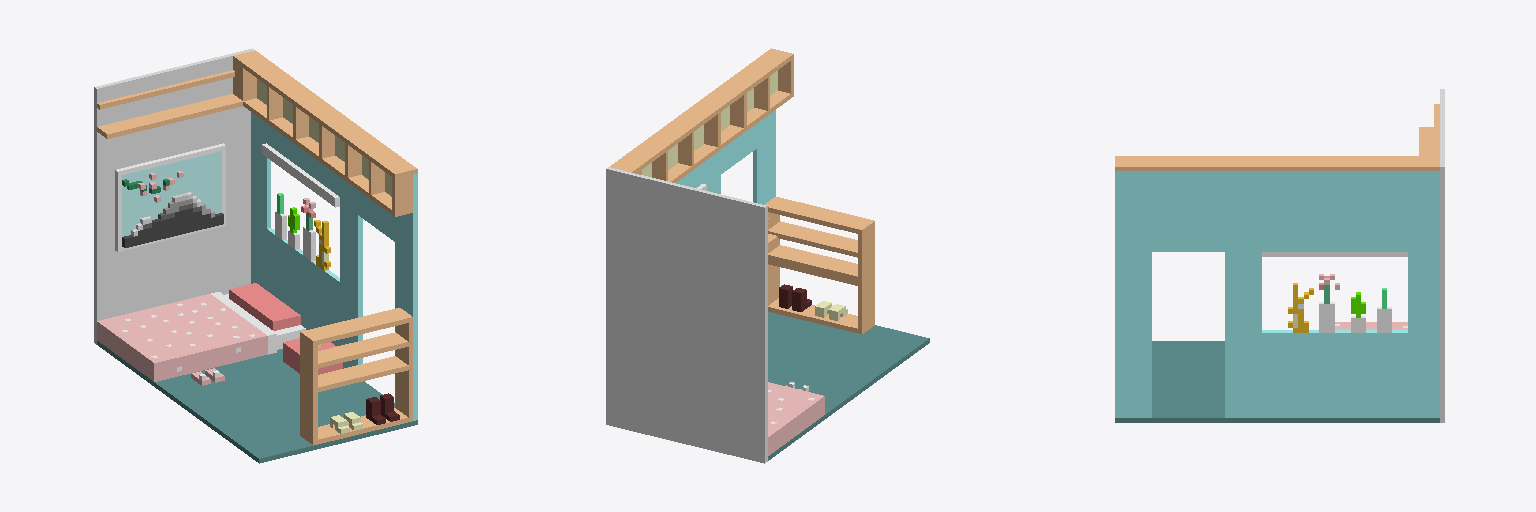
The picture shows the model from 3 angles: view 1: azimuth 30°, elevation 25°; view 2: azimuth 150°, elevation 25°; view 3: azimuth 270°, elevation 25°; orthographic projection.
Bounding box in the file's own units: 35 × 54 × 63.
Materials: 1 (1 with a texture image).